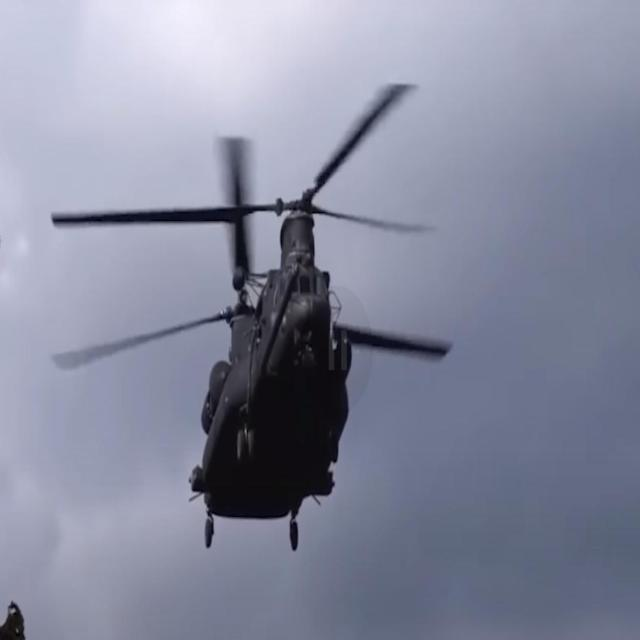Helicopter: (168, 165, 374, 567)
